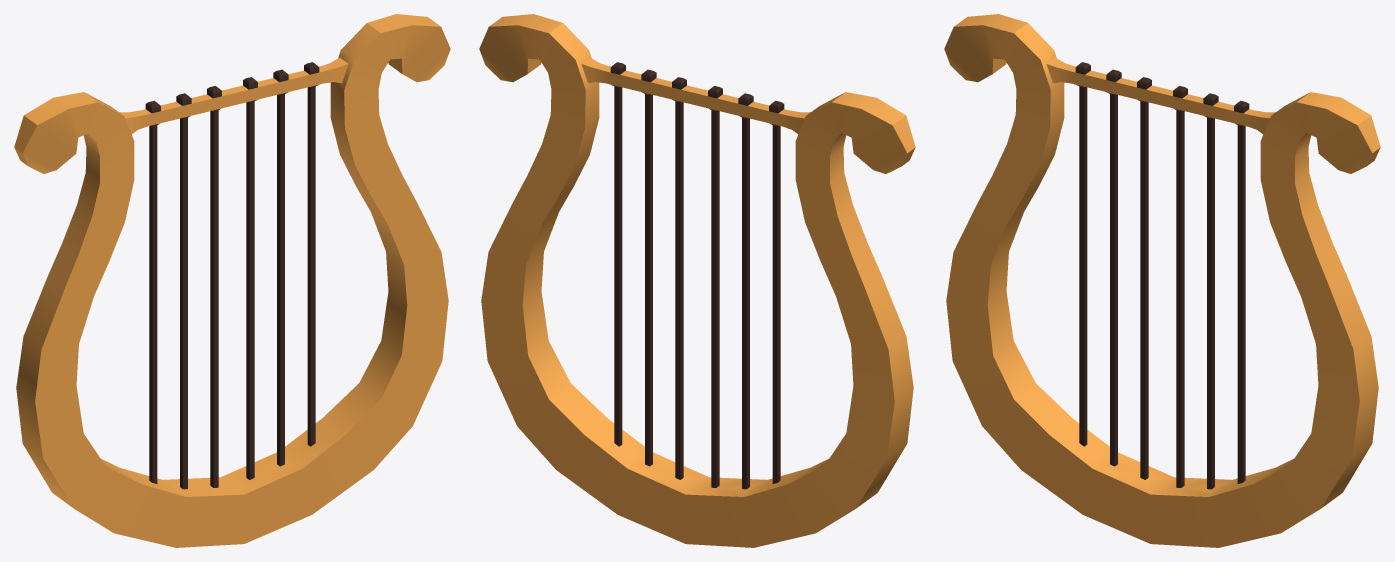
The picture shows the model from 3 angles, left to right: view 1: azimuth 30°, elevation 25°; view 2: azimuth 150°, elevation 25°; view 3: azimuth 330°, elevation 25°; orthographic projection.
Parts seen in each view (by area): view 1: Box005; view 2: Box005; view 3: Box005.
Part boxes in pixels (x1,y1,x2,y2): Box005: [14, 14, 450, 547]; Box005: [479, 14, 915, 547]; Box005: [944, 14, 1380, 547].
Bounding box in the file's own units: 91.08 × 8.72 × 96.33.
